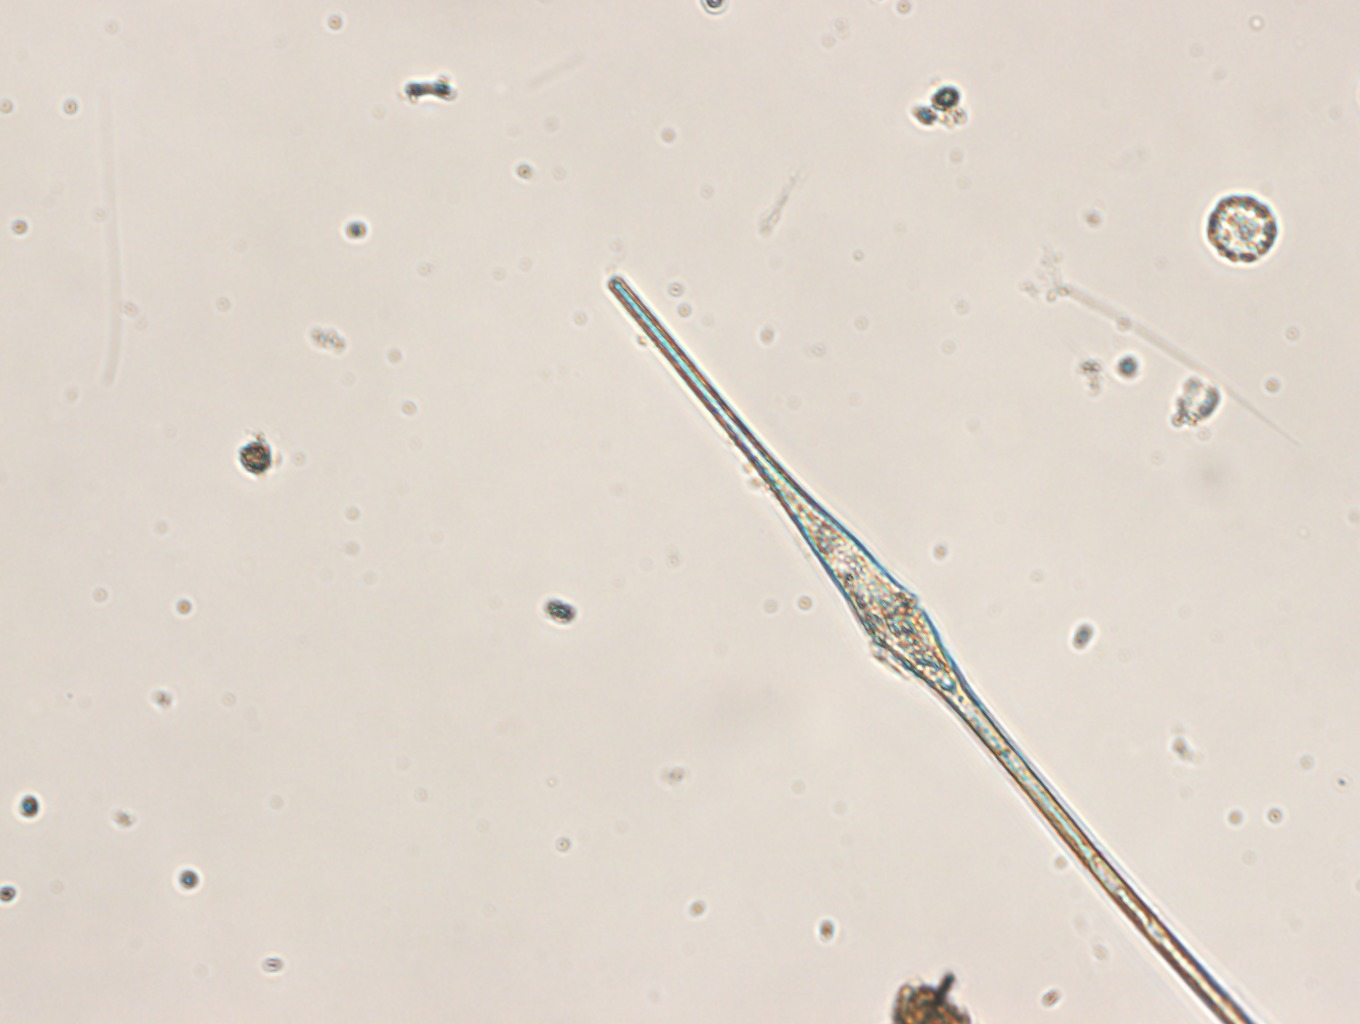ceratium fusus: (603, 270, 1255, 1024)
